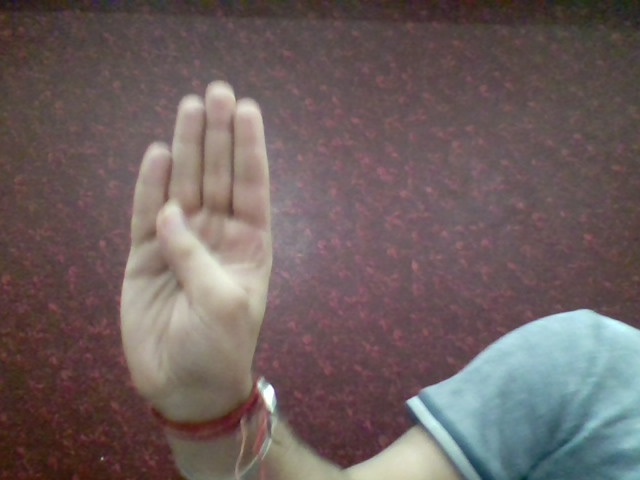b: (113, 74, 285, 409)
